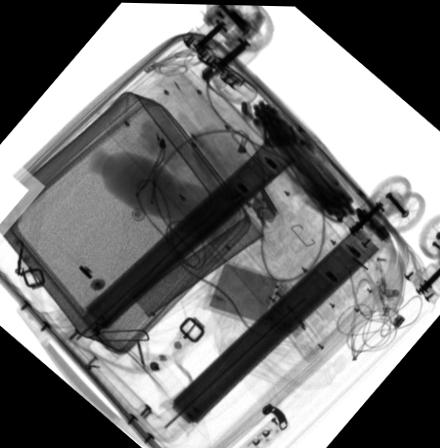Powerbank: (203, 257, 290, 332)
